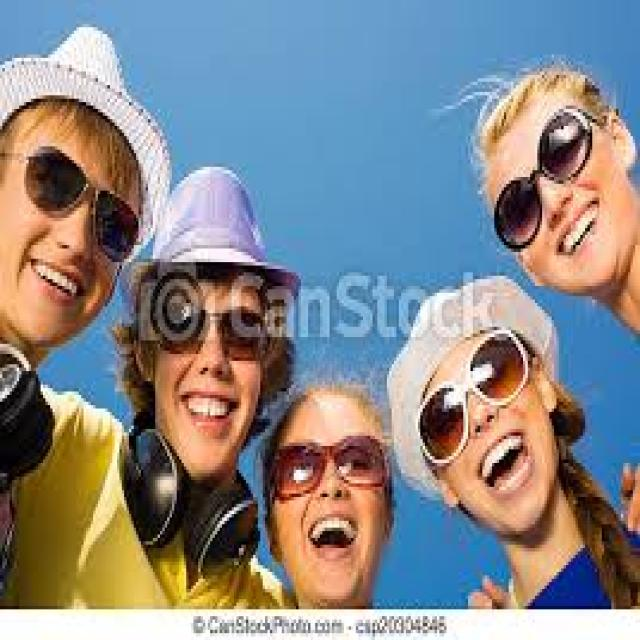hat: (0, 23, 172, 350)
head: (475, 61, 640, 296), (270, 378, 394, 602)
